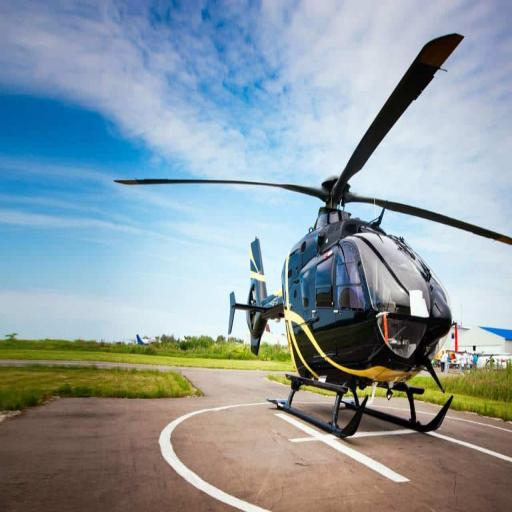helicopter: (114, 32, 504, 445)
